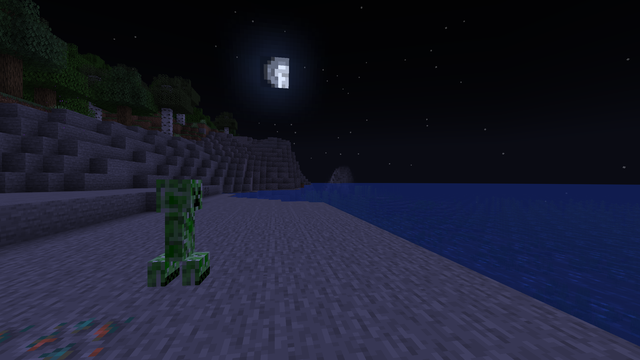creepers: (151, 174, 204, 288)
slimes: (231, 148, 234, 151)
